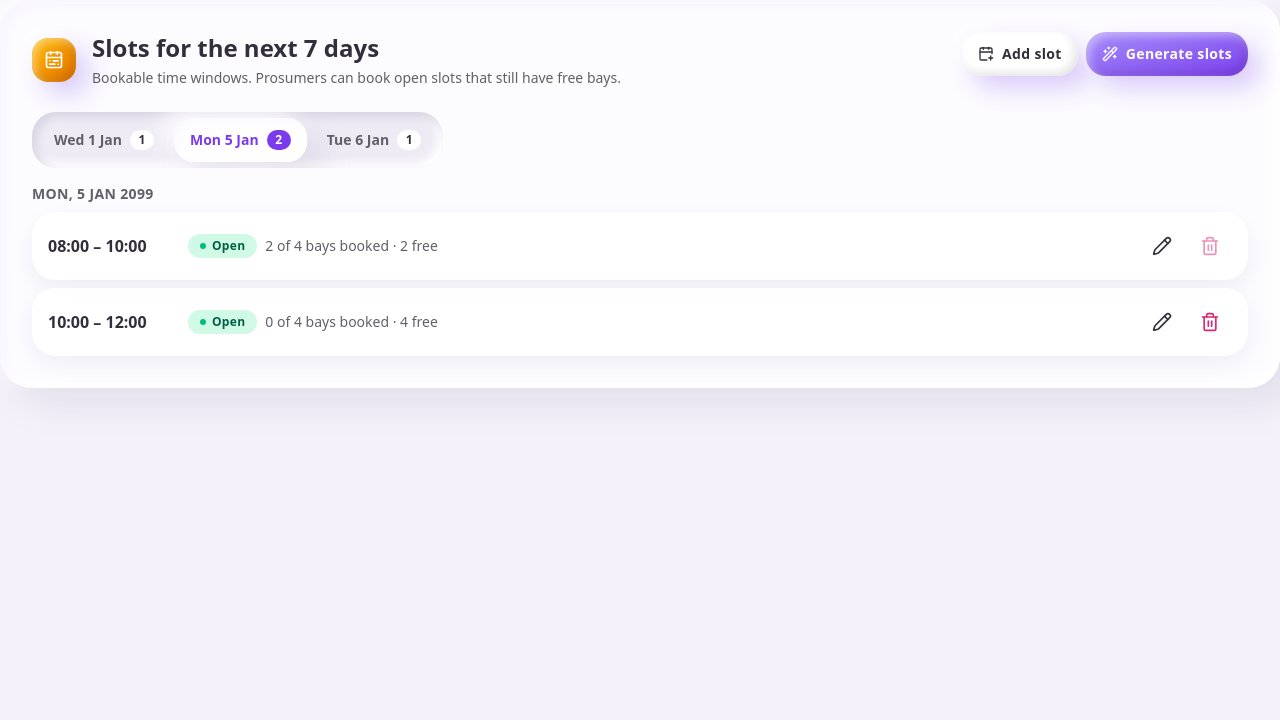
SlotsPanel › does not delete slots that have bookings
Expected: the element "5 Jan" is shown, [32,184,1248,356]
Click the button named "Delete slot" at (1210, 322), box [1188,300,1232,344]
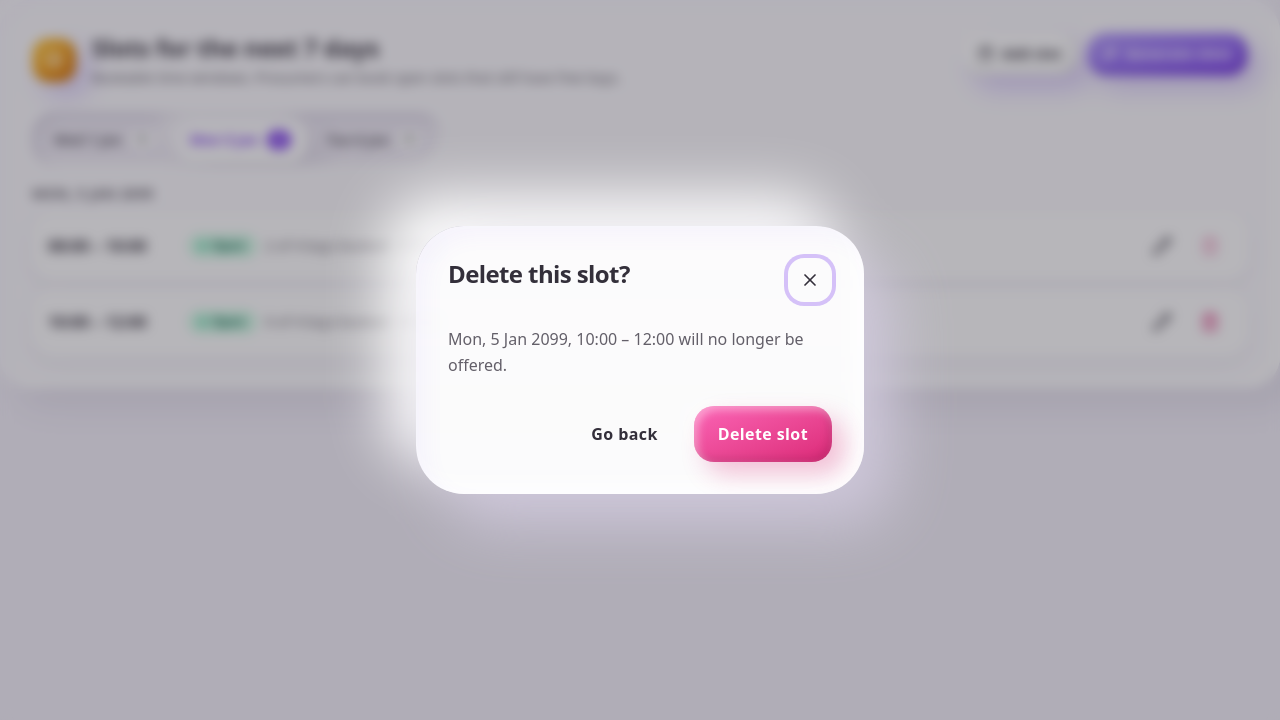
Click the button "Delete slot" at (763, 434), box [694,406,832,462]
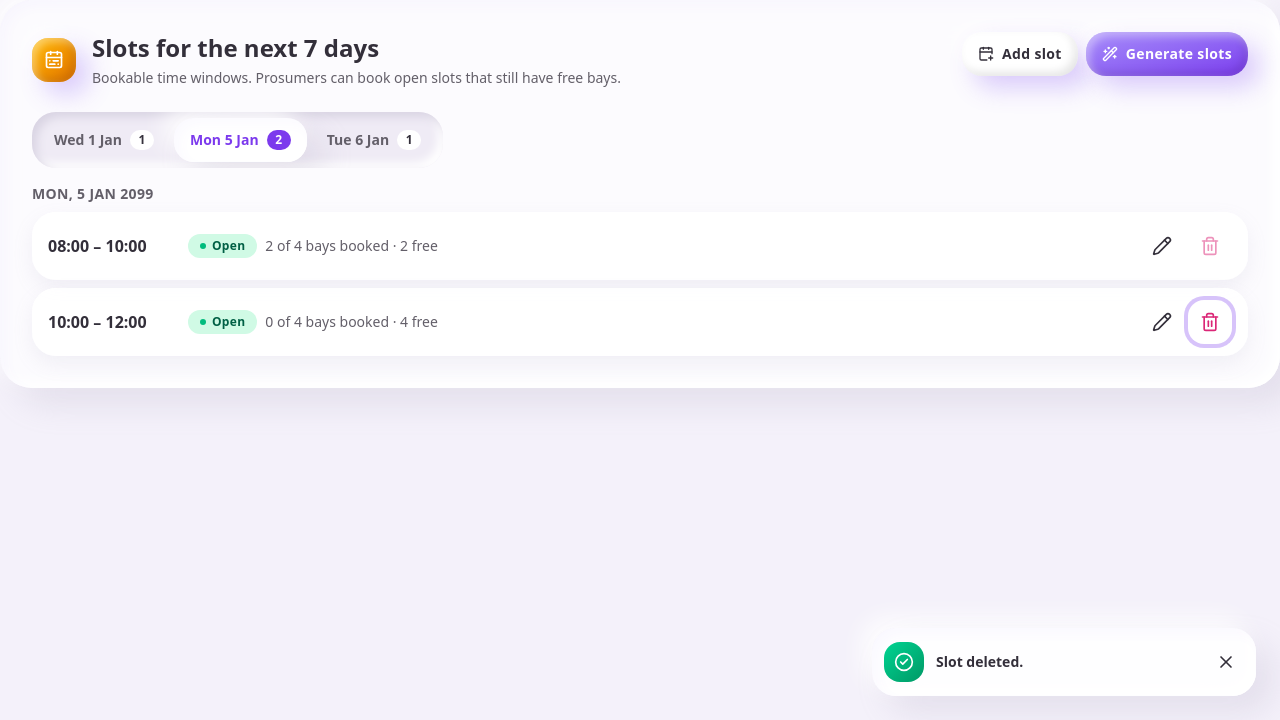
Expected: the text "Slot deleted." is shown, [936,652,1023,671]
